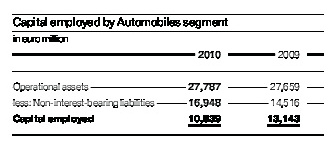table: (0, 0, 333, 151)
